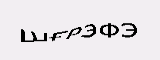Р: (65, 25, 81, 42)
Ф: (98, 21, 120, 40)
Ш: (18, 29, 47, 43)
Э: (119, 22, 140, 39), (79, 22, 98, 38)
Ғ: (48, 28, 67, 44)
